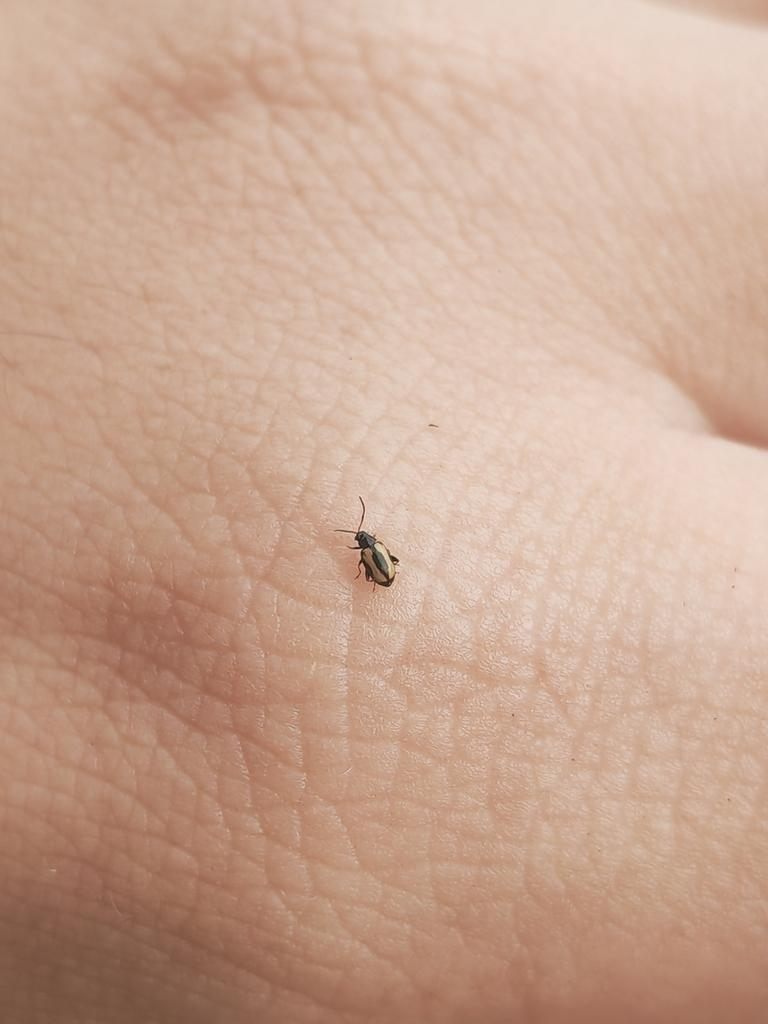flea_beetle: (314, 483, 427, 608)
